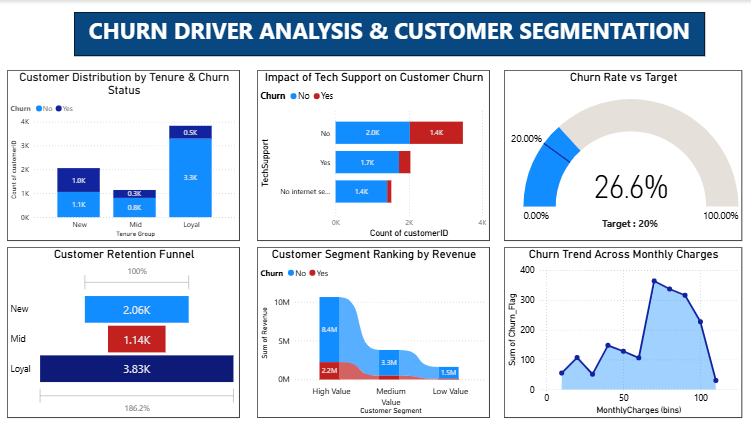

What the dashboard file says about the page in this screenshot:
{"tool":"powerbi","page":{"name":"Page 1","canvas":[1280,720],"ordinal":1},"visuals":[{"type":"textbox","box":[134.4,20.2,1059.9,73.9],"z":0},{"type":"columnChart","title":"Customer Distribution by Tenure & Churn Status","fields":{"Category":["WA_Fn-UseC_-Telco-Customer-Chur.Tenure Group"],"Y":["CountNonNull(WA_Fn-UseC_-Telco-Customer-Chur.customerID)"],"Series":["WA_Fn-UseC_-Telco-Customer-Chur.Churn"]},"box":[21.8,117.6,391.4,287.2],"z":1000},{"type":"barChart","title":"Impact of Tech Support on Customer Churn","fields":{"Category":["WA_Fn-UseC_-Telco-Customer-Chur.TechSupport"],"Y":["CountNonNull(WA_Fn-UseC_-Telco-Customer-Chur.customerID)"],"Series":["WA_Fn-UseC_-Telco-Customer-Chur.Churn"]},"box":[441.8,117.6,391.4,287.2],"z":1001},{"type":"funnel","title":"Customer Retention Funnel","fields":{"Category":["WA_Fn-UseC_-Telco-Customer-Chur.Tenure Group"],"Y":["CountNonNull(WA_Fn-UseC_-Telco-Customer-Chur.customerID)"]},"box":[21.8,414.9,391.4,287.2],"z":1002},{"type":"ribbonChart","title":"Customer Segment Ranking by Revenue","fields":{"Category":["WA_Fn-UseC_-Telco-Customer-Chur.Customer Segment"],"Y":["Sum(WA_Fn-UseC_-Telco-Customer-Chur.Revenue )"],"Series":["WA_Fn-UseC_-Telco-Customer-Chur.Churn"]},"box":[442,415,391,287],"z":1003},{"type":"areaChart","title":"Churn Trend Across Monthly Charges","fields":{"Category":["WA_Fn-UseC_-Telco-Customer-Chur.MonthlyCharges (bins)"],"Y":["Sum(WA_Fn-UseC_-Telco-Customer-Chur.Churn_Flag)"]},"box":[856.7,414.9,399.8,287.2],"z":1004},{"type":"gauge","title":"Churn Rate vs Target","fields":{"Y":["WA_Fn-UseC_-Telco-Customer-Chur.Churn Rate %"],"TargetValue":["WA_Fn-UseC_-Telco-Customer-Chur.Target Churn"]},"box":[856.7,117.6,399.8,287.2],"z":1005},{"type":"textbox","box":[1016.3,359.5,122.6,40.3],"z":1006}]}

Visuals, with their boxes in screenshot pixels (x1, y1, x2, y2), scaled from the page's 1280x720 canvas onto the 751x425 screenshot:
textbox: x1=79 y1=12 x2=701 y2=56
"Customer Distribution by Tenure & Churn Status" columnChart: x1=13 y1=69 x2=242 y2=239
"Impact of Tech Support on Customer Churn" barChart: x1=259 y1=69 x2=489 y2=239
"Customer Retention Funnel" funnel: x1=13 y1=245 x2=242 y2=414
"Customer Segment Ranking by Revenue" ribbonChart: x1=259 y1=245 x2=489 y2=414
"Churn Trend Across Monthly Charges" areaChart: x1=503 y1=245 x2=737 y2=414
"Churn Rate vs Target" gauge: x1=503 y1=69 x2=737 y2=239
textbox: x1=596 y1=212 x2=668 y2=236
